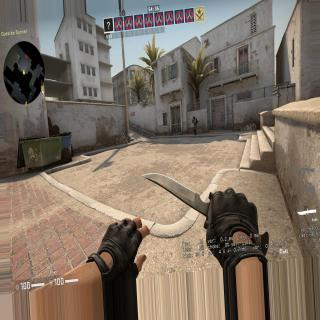CT-Body: (191, 114, 199, 138)
CT-Head: (193, 116, 196, 120)
